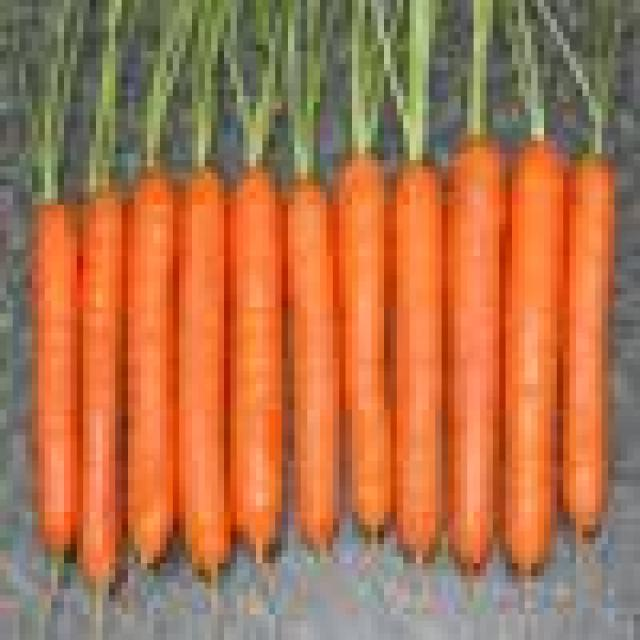Fresh_Carrot: (492, 128, 574, 578), (441, 128, 514, 589), (560, 88, 627, 527), (179, 170, 239, 568), (389, 145, 439, 576), (344, 145, 391, 556), (130, 176, 174, 593), (246, 161, 290, 560), (34, 204, 80, 584), (81, 191, 118, 607), (298, 172, 334, 560)
